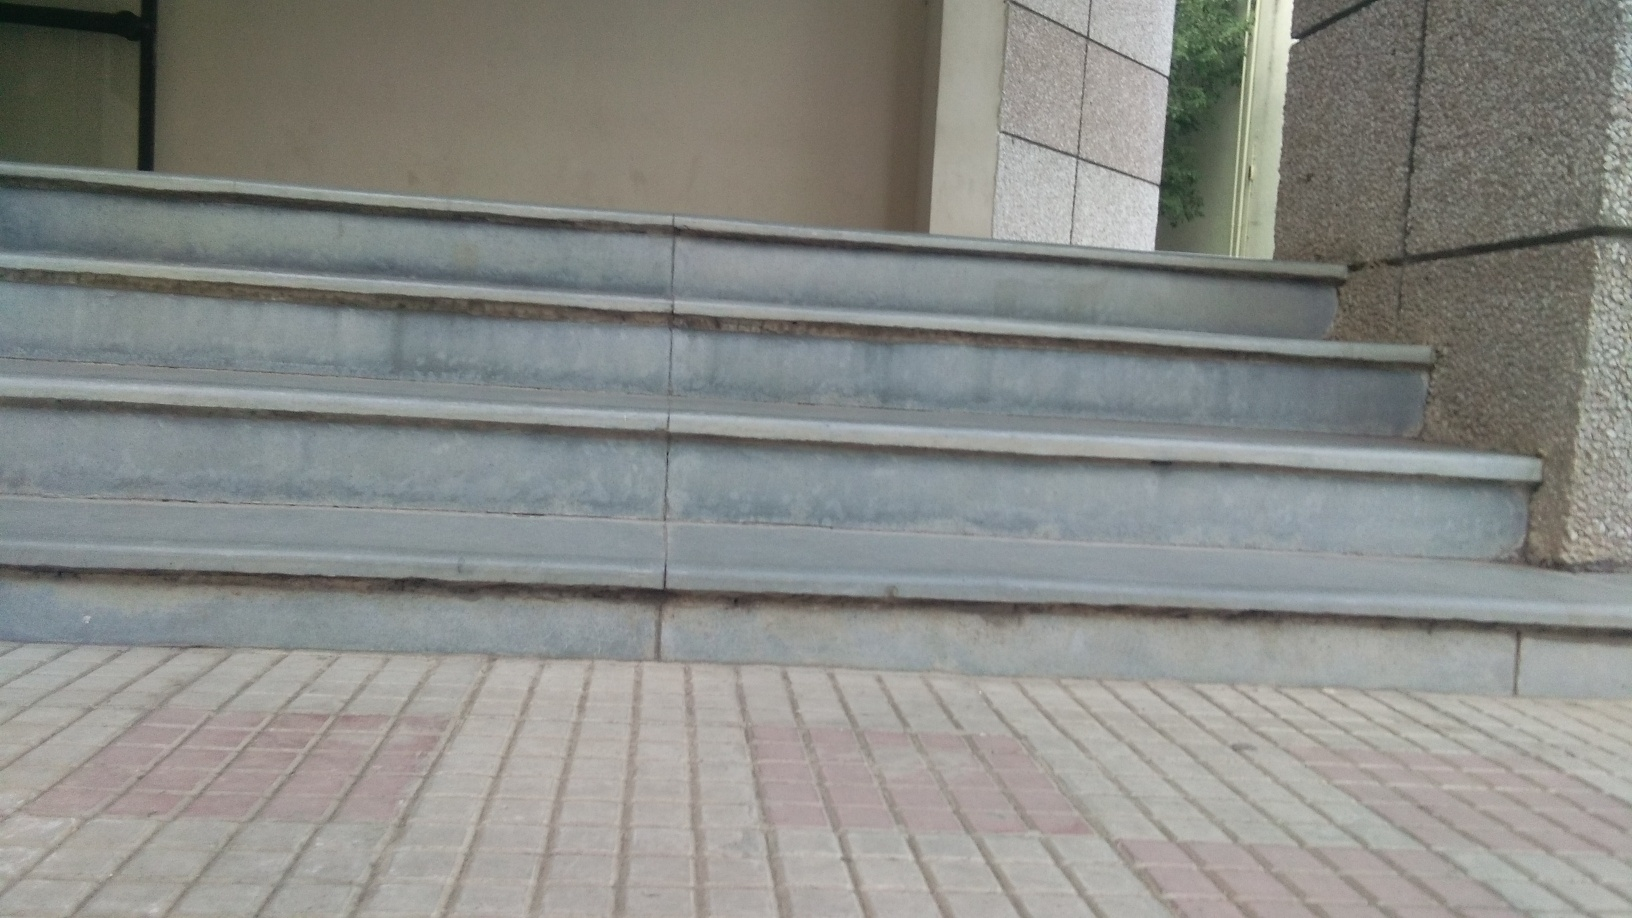stairs_up: (24, 163, 1527, 690)
